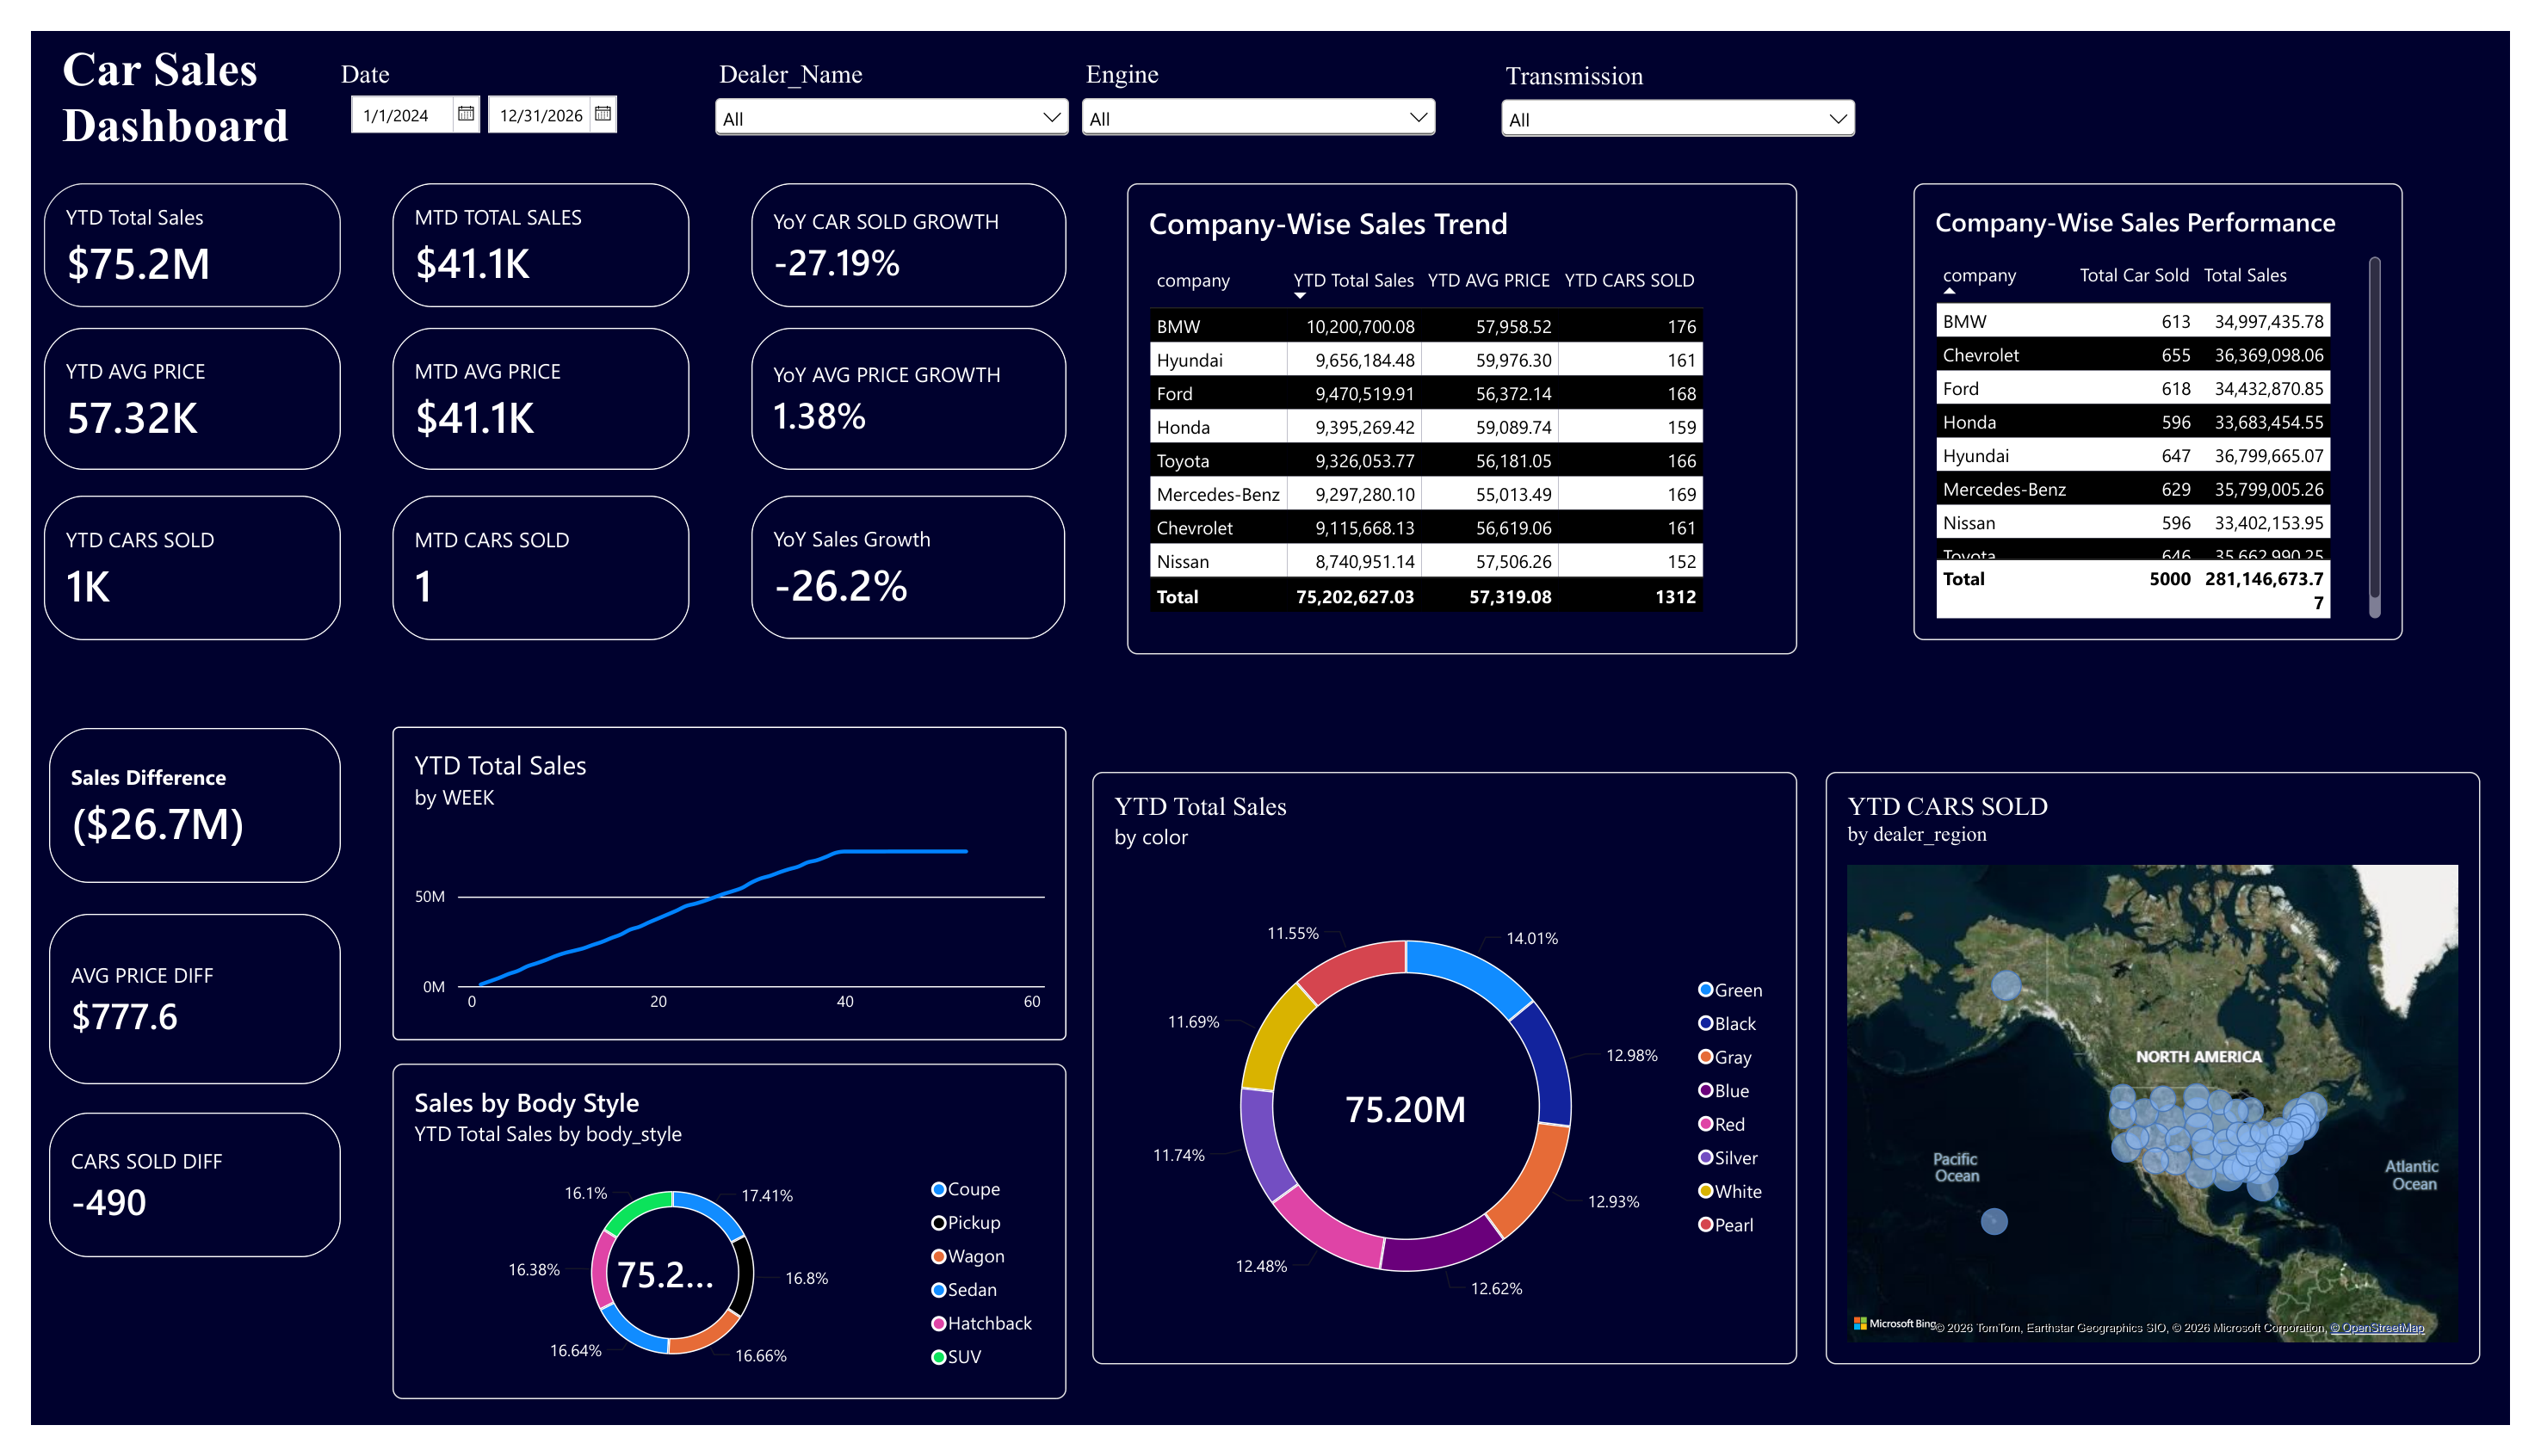

The page's visual inventory and layout, read from the dashboard file:
{"tool":"powerbi","page":{"name":"Page 1","canvas":[1920,1080],"ordinal":0},"visuals":[{"type":"cardVisual","title":"YTD TOTAL SALES","fields":{"Data":["car_sales_5000.YTD Total Sales"]},"box":[10,118,230,96],"z":0},{"type":"cardVisual","fields":{"Data":["car_sales_5000.Sales Difference"]},"box":[14,540,226,120],"z":1000},{"type":"cardVisual","fields":{"Data":["car_sales_5000.YoY Sales Growth"]},"box":[558.3,360,243.3,111.7],"z":2000},{"type":"cardVisual","fields":{"Data":["car_sales_5000.MTD AVG PRICE"]},"box":[280,230,230,110],"z":3000},{"type":"cardVisual","fields":{"Data":["car_sales_5000.MTD Total Sales"]},"box":[280,118,230,96],"z":4000},{"type":"cardVisual","fields":{"Data":["car_sales_5000.MTD CARS SOLD"]},"box":[280,360,230,112],"z":5000},{"type":"cardVisual","fields":{"Data":["car_sales_5000.YoY AVG PRICE GROWTH"]},"box":[558,230,244,110],"z":6000},{"type":"cardVisual","fields":{"Data":["car_sales_5000.YoY CAR SOLD GROWTH"]},"box":[558,118,244,96],"z":7000},{"type":"cardVisual","fields":{"Data":["car_sales_5000.YTD AVG PRICE"]},"box":[10,230,230,110],"z":8000},{"type":"cardVisual","fields":{"Data":["car_sales_5000.YTD CARS SOLD"]},"box":[10,360,230,112],"z":9000},{"type":"cardVisual","fields":{"Data":["car_sales_5000.AVG PRICE DIFF"]},"box":[14,684,226,132],"z":10000},{"type":"cardVisual","fields":{"Data":["car_sales_5000.CARS SOLD DIFF"]},"box":[14,838,226,112],"z":11000},{"type":"textbox","box":[24,8,255.2,94.1],"z":12000},{"type":"map","fields":{"Category":["car_sales_5000.dealer_region"],"Size":["car_sales_5000.YTD CARS SOLD"]},"box":[1389.8,573.7,506.7,459.7],"z":13000},{"type":"tableEx","title":"Company-Wise Sales Performance","fields":{"Values":["car_sales_5000.company","car_sales_5000.Total Car Sold","car_sales_5000.Total Sales"]},"box":[1458.3,118.3,378.3,353.3],"z":14000},{"type":"tableEx","title":"Company-Wise Sales Trend","fields":{"Values":["car_sales_5000.company","car_sales_5000.YTD Total Sales","car_sales_5000.YTD AVG PRICE","car_sales_5000.YTD CARS SOLD"]},"box":[848.7,117.6,519.4,365.6],"z":15000},{"type":"lineChart","fields":{"Category":["CALENDAR.WEEK"],"Y":["car_sales_5000.YTD Total Sales"]},"box":[280.5,539.3,521.2,242.5],"z":16000},{"type":"donutChart","title":"Sales by Body Style","fields":{"Category":["car_sales_5000.body_style"],"Y":["car_sales_5000.YTD Total Sales"]},"box":[280.5,799.9,521.2,260.6],"z":17000},{"type":"donutChart","fields":{"Category":["car_sales_5000.color"],"Y":["car_sales_5000.YTD Total Sales"]},"box":[821.6,573.7,546.5,459.7],"z":18000},{"type":"slicer","fields":{"Values":["car_sales_5000.dealer_name"]},"box":[524.8,21.7,284.1,65.1],"z":19000},{"type":"slicer","fields":{"Values":["CALENDAR.Date"]},"box":[240,22,256,65],"z":20000},{"type":"slicer","fields":{"Values":["car_sales_5000.engine"]},"box":[808.9,21.7,284.1,65.1],"z":21000},{"type":"slicer","fields":{"Values":["car_sales_5000.transmission"]},"box":[1133.8,22.5,284.1,65.1],"z":22000}]}

Visuals, with their boxes in screenshot pixels (x1, y1, x2, y2), scaled from the page's 1920x1080 canvas onto the 2541x1456 screenshot:
"YTD TOTAL SALES" cardVisual: box=[13, 159, 318, 288]
cardVisual - car_sales_5000.Sales Difference: box=[19, 728, 318, 890]
cardVisual - car_sales_5000.YoY Sales Growth: box=[739, 485, 1060, 636]
cardVisual - car_sales_5000.MTD AVG PRICE: box=[370, 310, 675, 459]
cardVisual - car_sales_5000.MTD Total Sales: box=[370, 159, 675, 288]
cardVisual - car_sales_5000.MTD CARS SOLD: box=[370, 485, 675, 636]
cardVisual - car_sales_5000.YoY AVG PRICE GROWTH: box=[739, 310, 1061, 459]
cardVisual - car_sales_5000.YoY CAR SOLD GROWTH: box=[739, 159, 1061, 288]
cardVisual - car_sales_5000.YTD AVG PRICE: box=[13, 310, 318, 459]
cardVisual - car_sales_5000.YTD CARS SOLD: box=[13, 485, 318, 636]
cardVisual - car_sales_5000.AVG PRICE DIFF: box=[19, 922, 318, 1100]
cardVisual - car_sales_5000.CARS SOLD DIFF: box=[19, 1130, 318, 1280]
textbox: box=[32, 11, 369, 138]
map - car_sales_5000.dealer_region x car_sales_5000.YTD CARS SOLD: box=[1839, 774, 2510, 1393]
"Company-Wise Sales Performance" tableEx: box=[1930, 159, 2431, 636]
"Company-Wise Sales Trend" tableEx: box=[1123, 158, 1810, 651]
lineChart - CALENDAR.WEEK x car_sales_5000.YTD Total Sales: box=[371, 727, 1061, 1054]
"Sales by Body Style" donutChart: box=[371, 1078, 1061, 1429]
donutChart - car_sales_5000.color x car_sales_5000.YTD Total Sales: box=[1087, 774, 1810, 1393]
slicer - car_sales_5000.dealer_name: box=[695, 29, 1071, 117]
slicer - CALENDAR.Date: box=[318, 29, 657, 117]
slicer - car_sales_5000.engine: box=[1071, 29, 1446, 117]
slicer - car_sales_5000.transmission: box=[1500, 30, 1876, 118]
